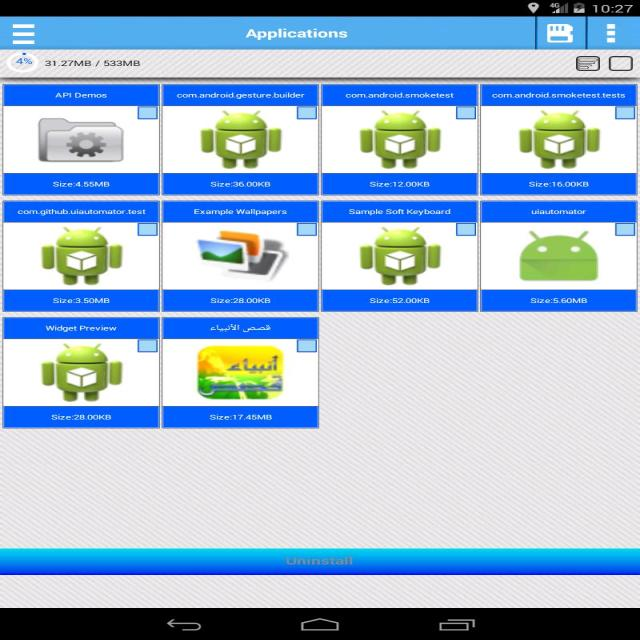button: (534, 16, 586, 49), (7, 21, 38, 49), (599, 21, 626, 49), (613, 106, 639, 120), (296, 222, 317, 237), (137, 339, 158, 354), (456, 106, 478, 120), (455, 222, 477, 236), (138, 106, 158, 120), (138, 224, 158, 238), (614, 222, 634, 236), (296, 339, 315, 353), (299, 107, 316, 119)
heading: (242, 28, 351, 43)
image: (483, 104, 636, 174), (161, 106, 317, 173), (322, 105, 478, 172), (164, 339, 317, 407), (4, 223, 159, 290), (323, 223, 478, 290), (481, 223, 635, 290), (3, 339, 157, 406), (3, 107, 158, 173), (163, 222, 318, 288)
text: (340, 89, 463, 103), (14, 208, 148, 220), (490, 91, 630, 102), (42, 55, 144, 70), (180, 90, 306, 102), (348, 206, 455, 218), (192, 207, 294, 219), (44, 322, 121, 334), (51, 292, 116, 306), (524, 178, 592, 191), (365, 295, 437, 307), (48, 412, 117, 424), (51, 89, 112, 102), (367, 179, 433, 191), (528, 294, 593, 306), (205, 296, 274, 307), (208, 180, 276, 191), (204, 323, 277, 333), (206, 413, 278, 423), (526, 208, 592, 218), (51, 182, 114, 190)
